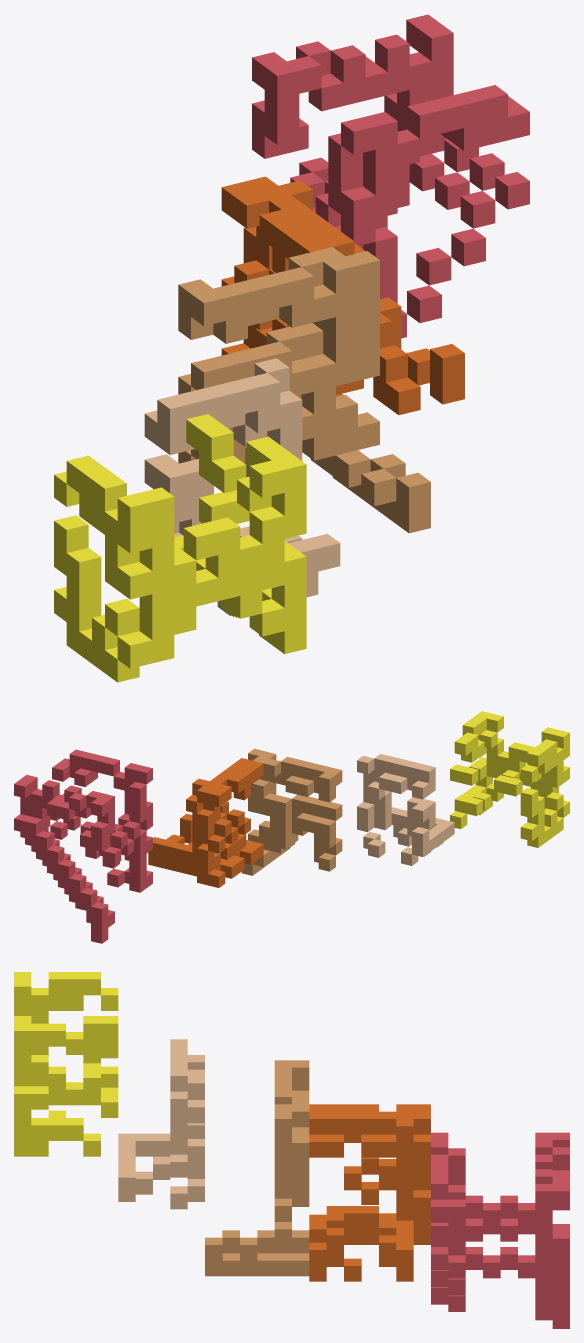
The model's file is HelloWorld.gltf.
The picture shows the model from 3 angles, top to bottom: view 1: azimuth 30°, elevation 25°; view 2: azimuth 150°, elevation 25°; view 3: azimuth 270°, elevation 25°; orthographic projection. The views are drawn at different scales.
Visible parts, largest first — view 1: Layer.1; view 2: Layer.1; view 3: Layer.1.
Part boxes in pixels (x1=…): Layer.1: x1=54, y1=14, x2=529, y2=682; Layer.1: x1=14, y1=711, x2=569, y2=943; Layer.1: x1=14, y1=972, x2=569, y2=1328.
Size of the model in its own units: 32 by 12 by 32.
Materials: 1 (1 with a texture image).
